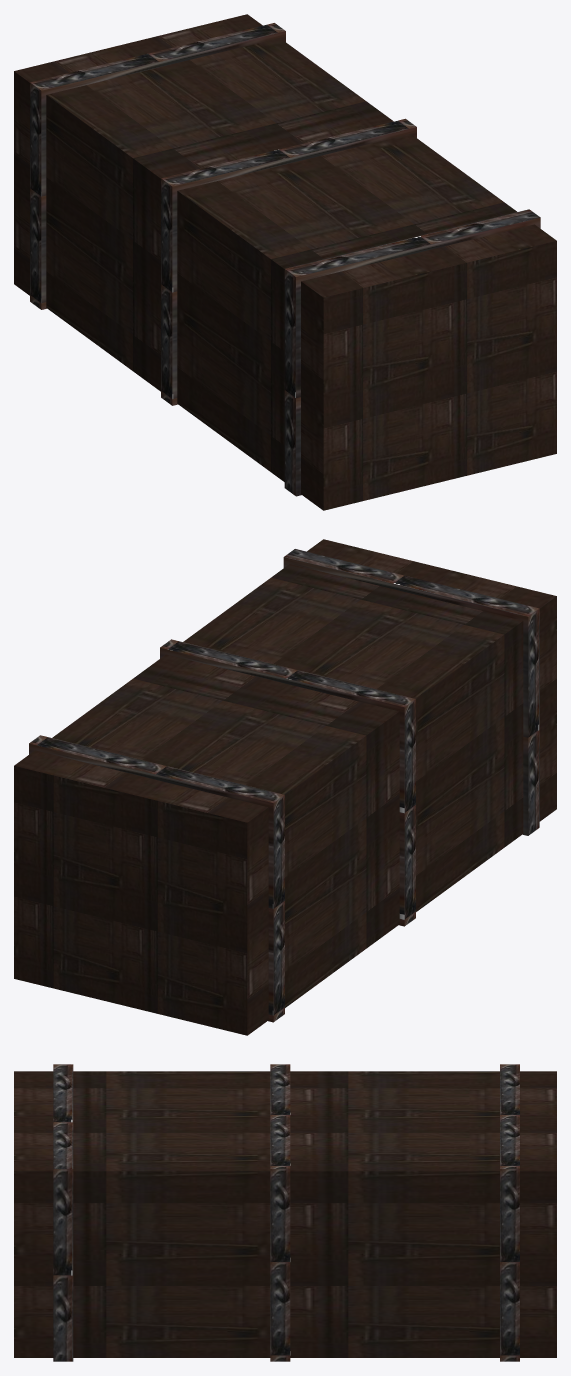
File: vault.glb
3 renders of one model, top to bottom at view 1: azimuth 30°, elevation 25°; view 2: azimuth 150°, elevation 25°; view 3: azimuth 270°, elevation 25°, orthographic. The views are drawn at different scales.
Visible parts, largest first — view 1: vault.ms3d.mo; view 2: vault.ms3d.mo; view 3: vault.ms3d.mo.
Boxes of the visible parts, left/top/right/bottom form: vault.ms3d.mo: left=14, top=14, right=556, bottom=510; vault.ms3d.mo: left=14, top=539, right=556, bottom=1035; vault.ms3d.mo: left=14, top=1064, right=556, bottom=1361.
Size of the model in its own units: 21.74 by 18.62 by 47.65.
Materials: 2 (2 with a texture image).
